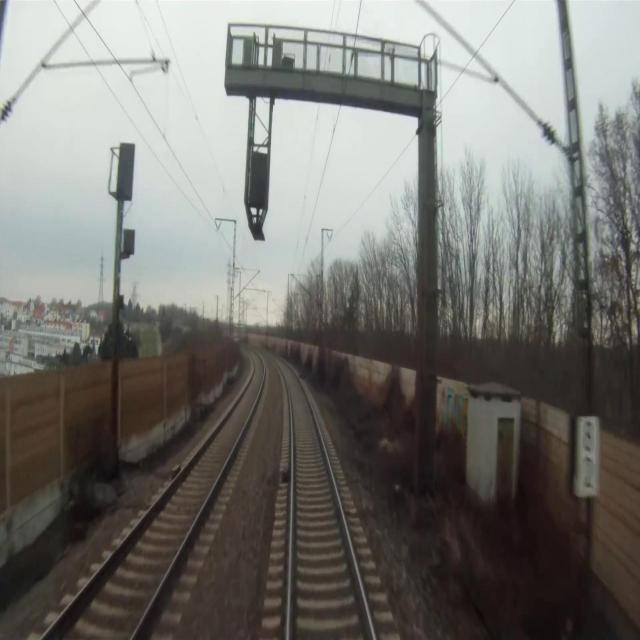rail-track: (46, 354, 262, 639), (281, 364, 371, 639)
